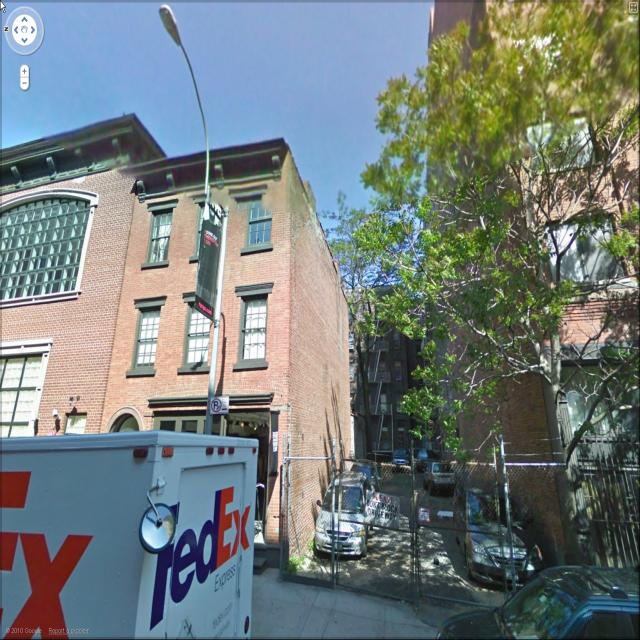b_1: (118, 148, 351, 544), (1, 92, 160, 474)
